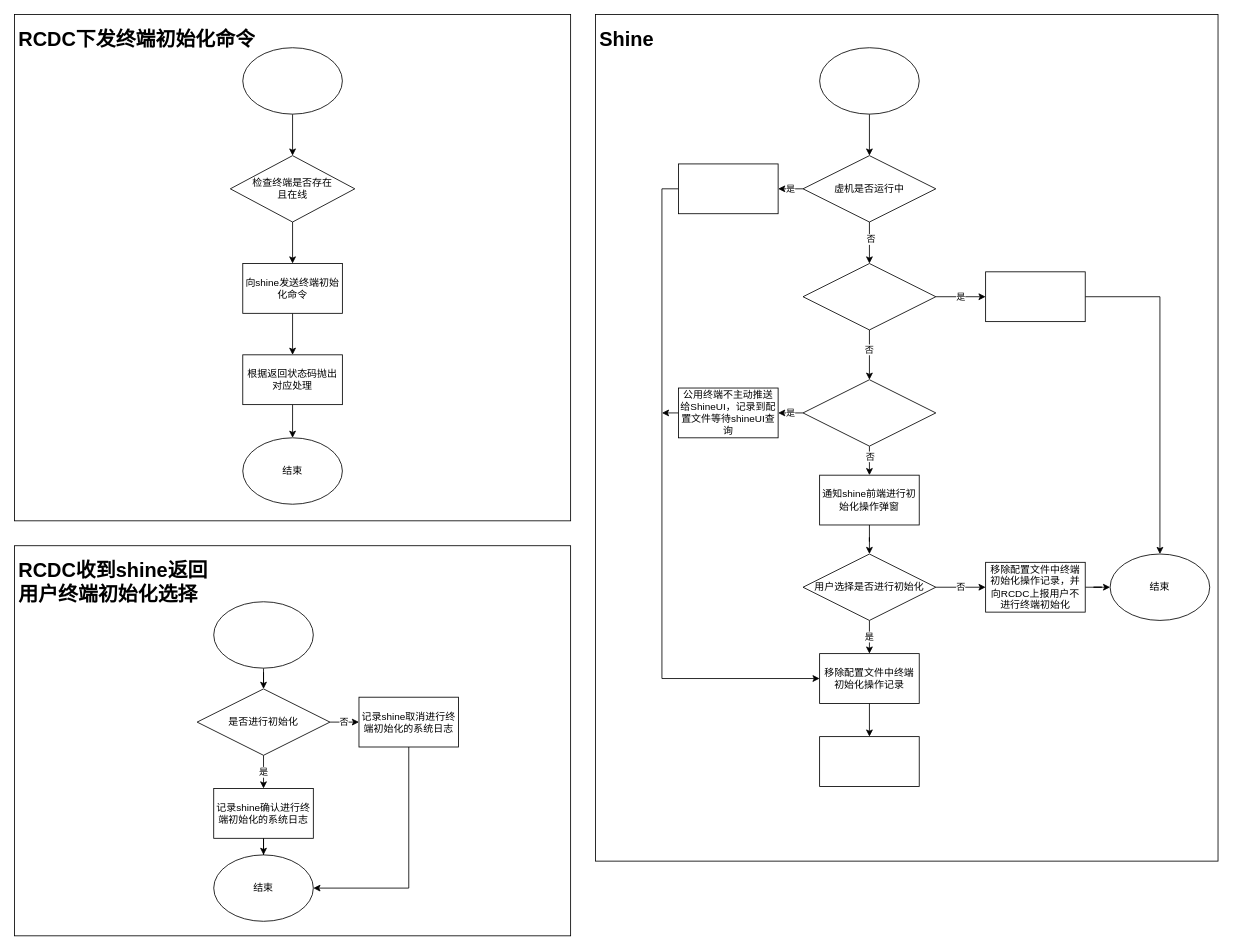
Image size: 1233x950. Some labels were removed from this diagram. The centre of each missing label's shape, as x and y in pixels:
向RCDC发送虚机运行中状态码，并记录此次操作，重启终端或退出虚机时执行: the point at 728,188
向RCDC返回对应正在进行的终端操作码: the point at 1035,296
如果开启: the point at 869,761
开始初始化: the point at 292,80
接收到初始化指令: the point at 869,80
收到shine返回用户终端初始化选择: the point at 263,634
是否为公用终端: the point at 869,412
终端是否有其他 操作正在执行: the point at 869,296
